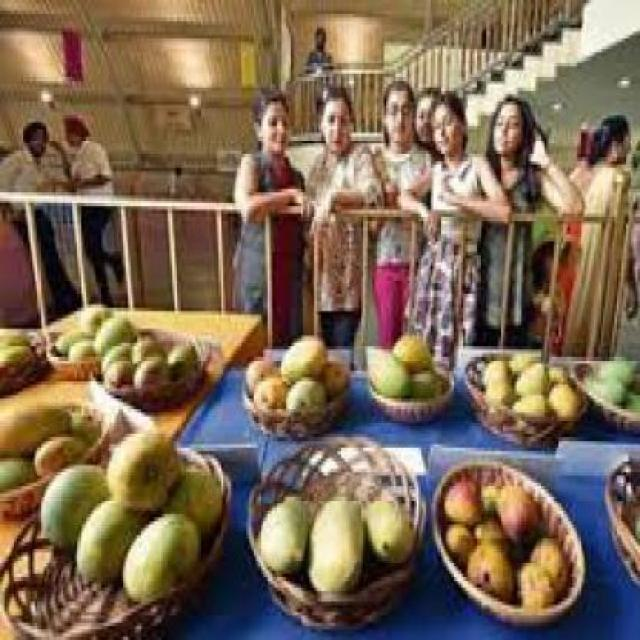BIODEGRADABLE: (118, 507, 200, 598), (105, 426, 182, 511), (35, 462, 110, 546), (74, 489, 144, 577), (305, 493, 366, 592), (256, 486, 310, 577), (162, 462, 220, 528), (362, 489, 415, 560), (0, 402, 66, 456), (463, 538, 512, 596), (493, 480, 538, 542), (362, 342, 410, 392), (277, 332, 326, 377), (30, 434, 87, 472), (442, 476, 480, 522), (533, 535, 565, 588), (514, 560, 554, 602), (390, 328, 428, 372), (91, 312, 131, 350), (582, 370, 626, 402), (245, 353, 277, 395), (251, 371, 286, 409), (282, 370, 323, 402), (130, 328, 168, 361), (442, 521, 475, 556), (164, 339, 196, 375), (472, 511, 503, 546), (410, 363, 442, 395), (100, 338, 131, 371), (66, 406, 102, 434), (132, 353, 168, 381), (319, 356, 347, 392), (612, 462, 638, 500), (514, 360, 544, 392), (102, 353, 135, 381), (54, 322, 88, 349), (0, 458, 32, 486), (545, 377, 572, 409), (593, 357, 629, 381), (479, 357, 510, 381), (509, 392, 545, 410), (0, 339, 28, 361), (484, 378, 511, 399), (82, 308, 109, 329), (616, 385, 638, 409), (0, 325, 28, 343), (507, 349, 533, 368), (477, 482, 494, 507), (68, 332, 90, 350), (545, 360, 566, 378)
